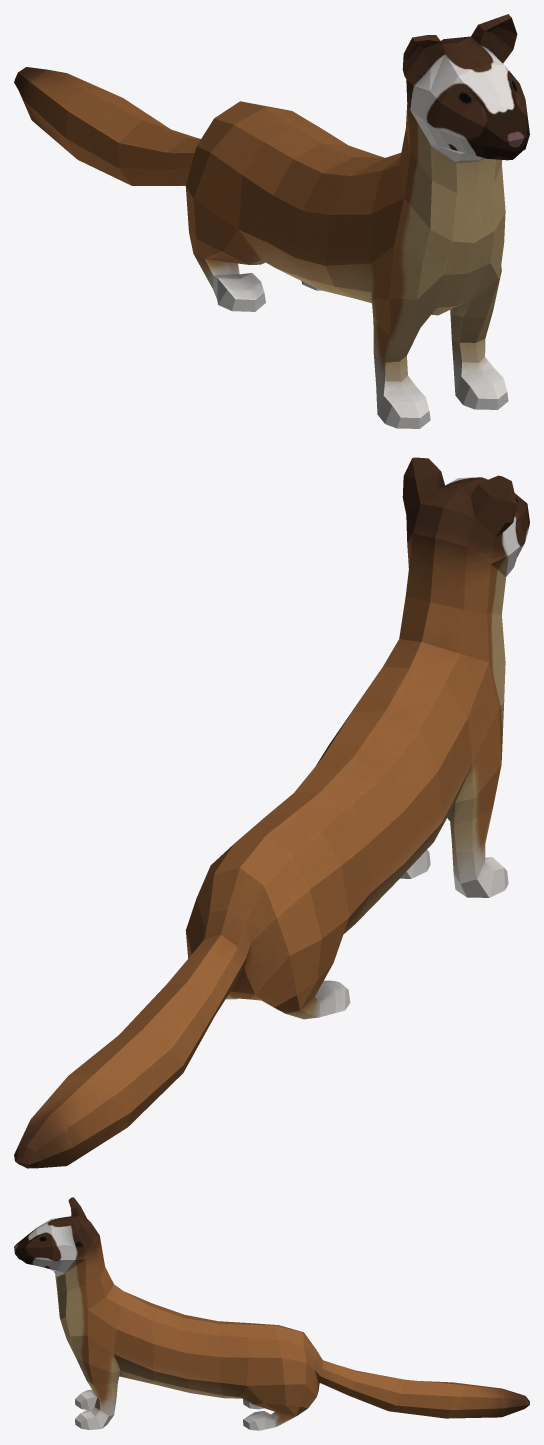
The model's file is 4fUZKhsSs42.glb.
The picture shows the model from 3 angles, top to bottom: view 1: azimuth 30°, elevation 25°; view 2: azimuth 150°, elevation 25°; view 3: azimuth 270°, elevation 25°; orthographic projection. The views are drawn at different scales.
Parts seen in each view (by area): view 1: LongTailedWeasel_Mesh; view 2: LongTailedWeasel_Mesh; view 3: LongTailedWeasel_Mesh.
Boxes of the visible parts, box(x1,y1,x2,y2) form: LongTailedWeasel_Mesh: box(14, 14, 529, 428); LongTailedWeasel_Mesh: box(14, 457, 529, 1168); LongTailedWeasel_Mesh: box(14, 1197, 529, 1430).
Size of the model in its own units: 0.3384 by 0.9999 by 2.27.
Materials: 1 (1 with a texture image).
